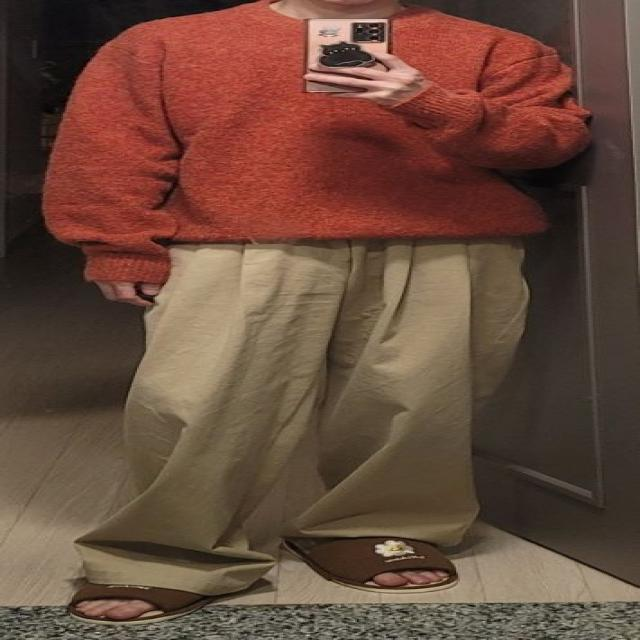cottonpants: (104, 240, 534, 586)
sweater: (38, 2, 597, 302)
